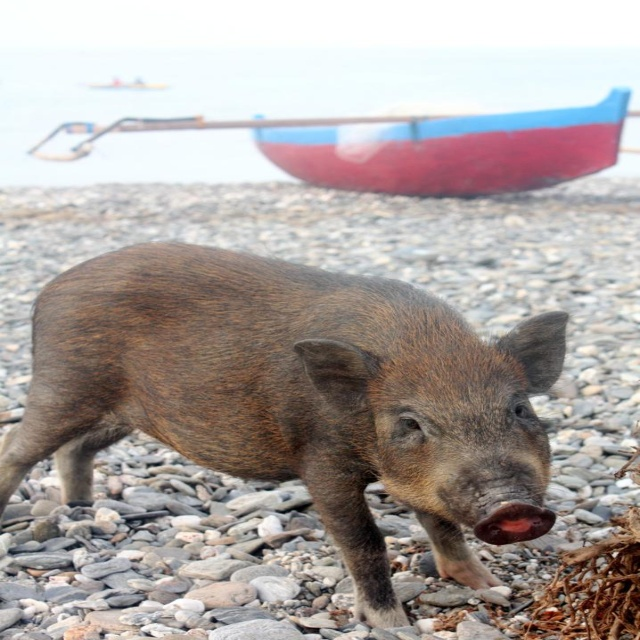Pig: (0, 238, 572, 628)
